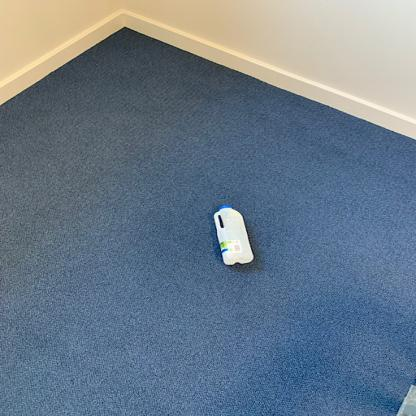trash: (212, 202, 256, 268)
